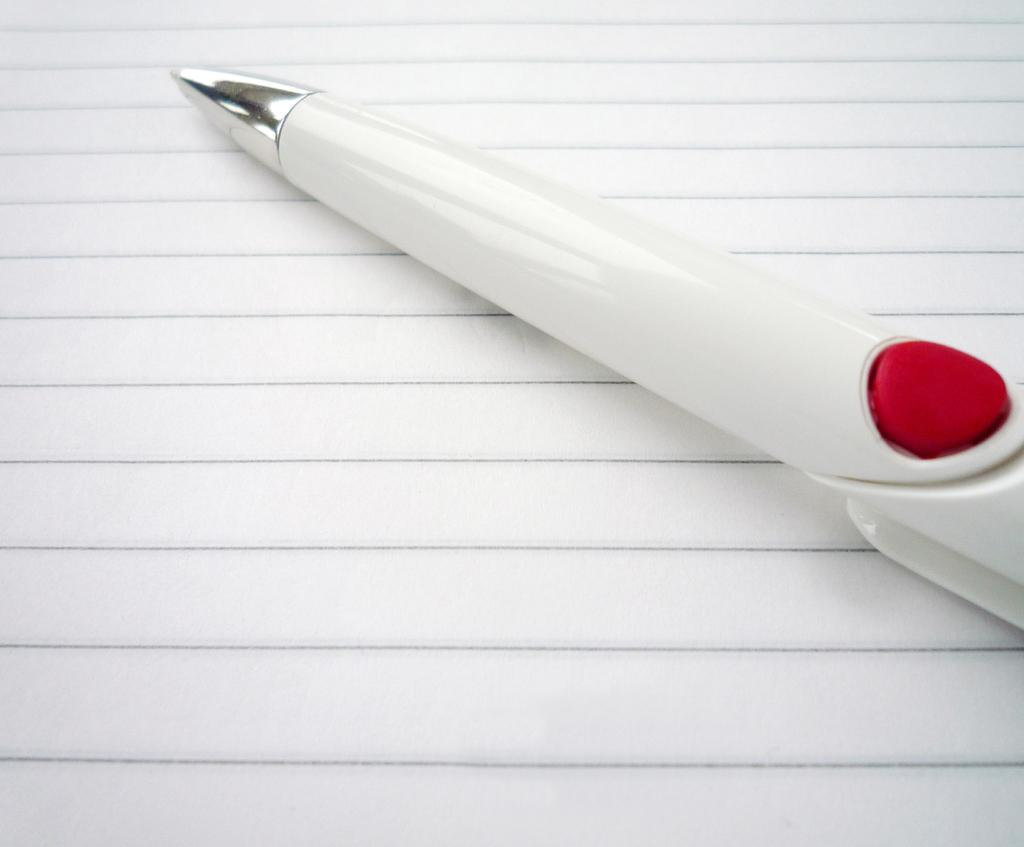pen: (165, 64, 1022, 635)
